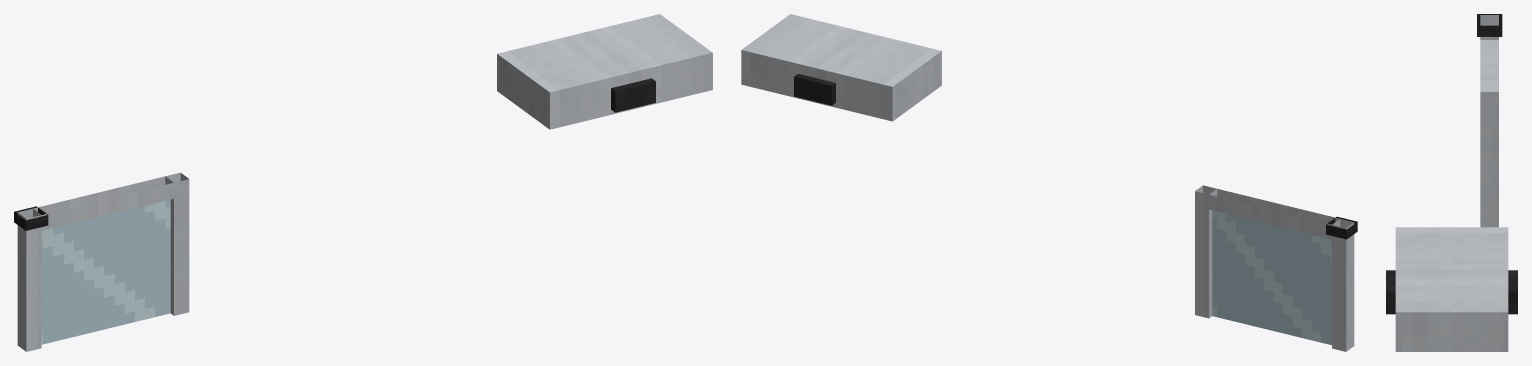
File: auto_door_tele_slider_clear_c2_upper_left_open.obj
3 views of the same model, side by side, from view 1: azimuth 30°, elevation 25°; view 2: azimuth 150°, elevation 25°; view 3: azimuth 270°, elevation 25° (orthographic). The views are drawn at different scales.
Visible parts, largest first — view 1: auto_door_tele_slider_clear_c2_upper_left_open; view 2: auto_door_tele_slider_clear_c2_upper_left_open; view 3: auto_door_tele_slider_clear_c2_upper_left_open.
Boxes of the visible parts, left/top/right/bottom form: auto_door_tele_slider_clear_c2_upper_left_open: left=14, top=14, right=712, bottom=351; auto_door_tele_slider_clear_c2_upper_left_open: left=741, top=14, right=1357, bottom=351; auto_door_tele_slider_clear_c2_upper_left_open: left=1386, top=14, right=1517, bottom=351.
Size of the model in its own units: 3.98 by 1 by 0.6562.
